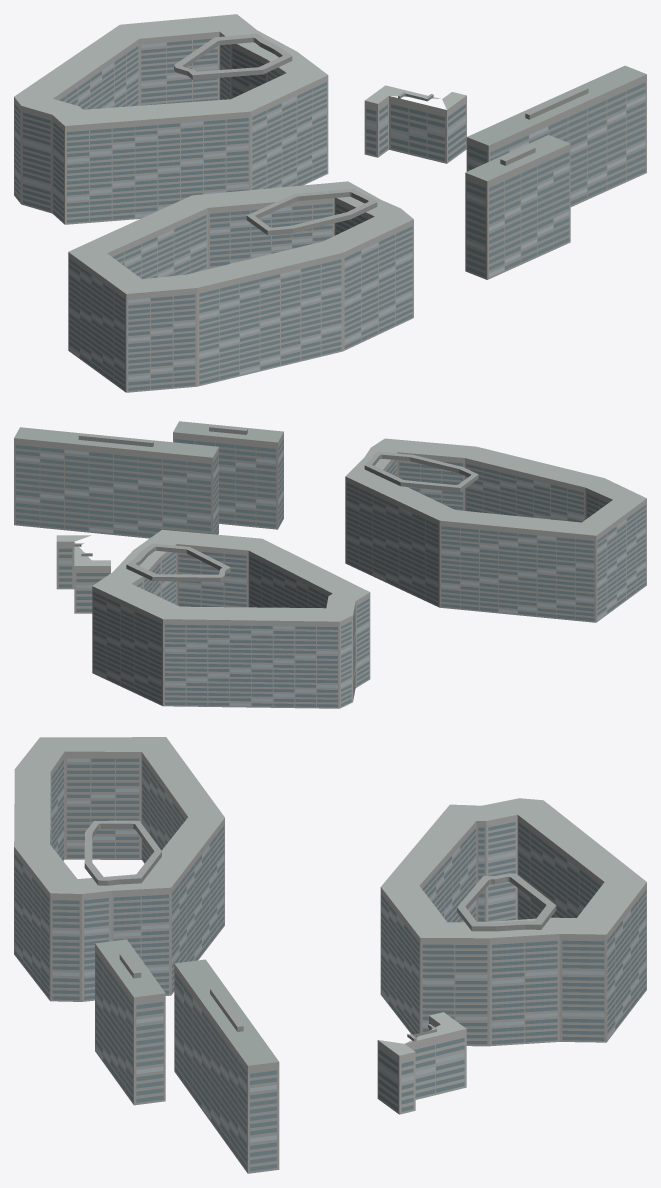
The model's file is apt-a10027985.glb.
The picture shows the model from 3 angles, top to bottom: view 1: azimuth 30°, elevation 25°; view 2: azimuth 150°, elevation 25°; view 3: azimuth 270°, elevation 25°; orthographic projection. The views are drawn at different scales.
Visible parts, largest first — view 1: apt-a10027985; view 2: apt-a10027985; view 3: apt-a10027985.
Part boxes in pixels (x1=…): apt-a10027985: x1=14, y1=14, x2=646, y2=392; apt-a10027985: x1=14, y1=421, x2=646, y2=708; apt-a10027985: x1=14, y1=737, x2=646, y2=1173.
Size of the model in its own units: 274 by 44 by 223.
